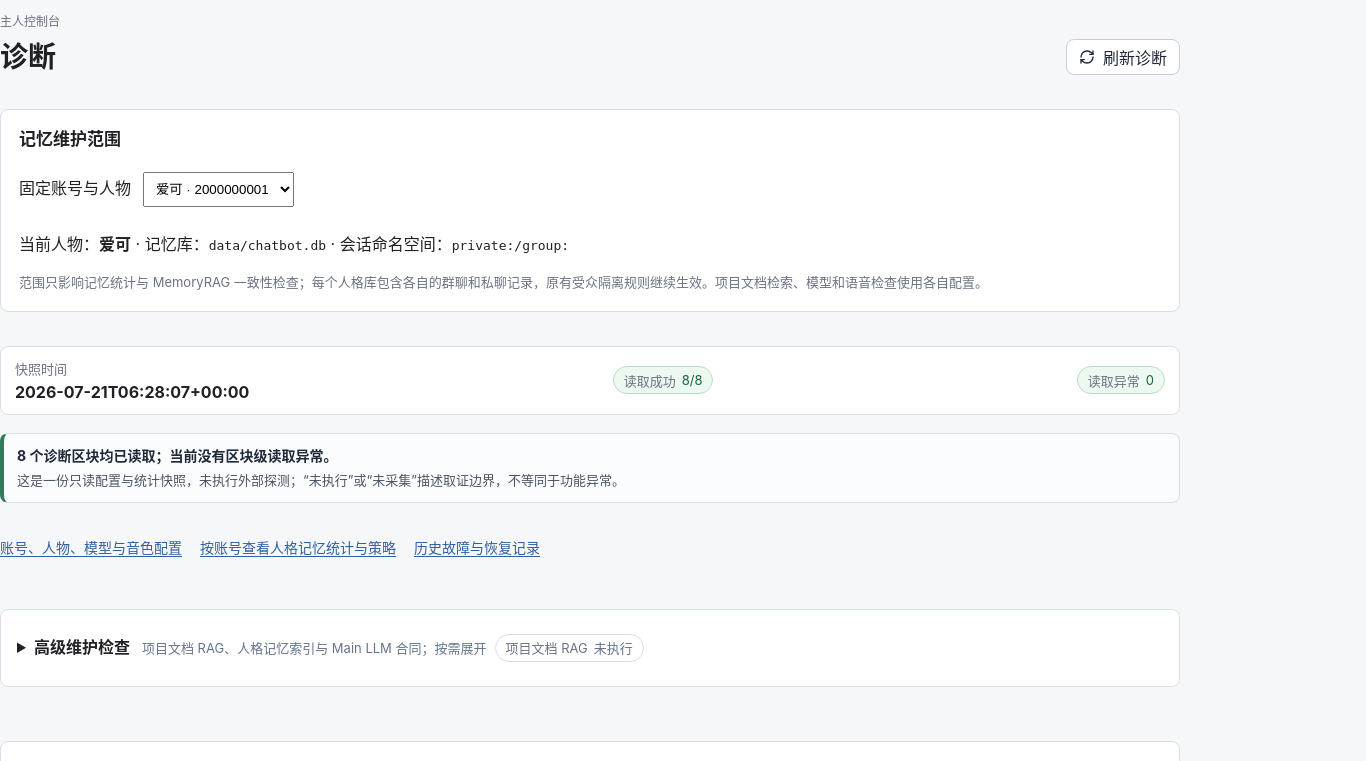
DiagnosticsPage › requires explicit confirmation for the one registered ProjectDocRAG action
Step 1. Click the heading that starts with "高级维护检查" → (339, 648), box [34, 634, 644, 662]
(page scrolled)
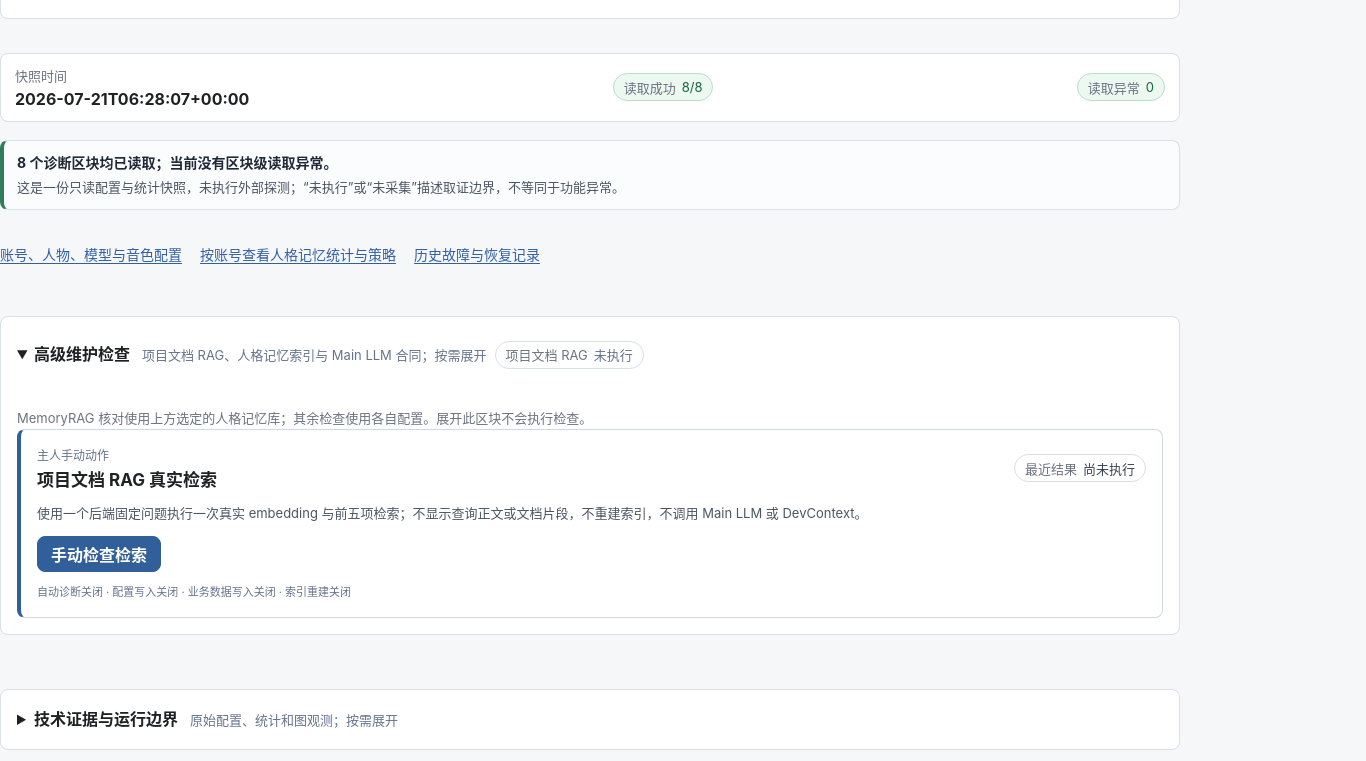
Step 2. Click the button "手动检查检索" → (99, 554), box [37, 536, 161, 572]
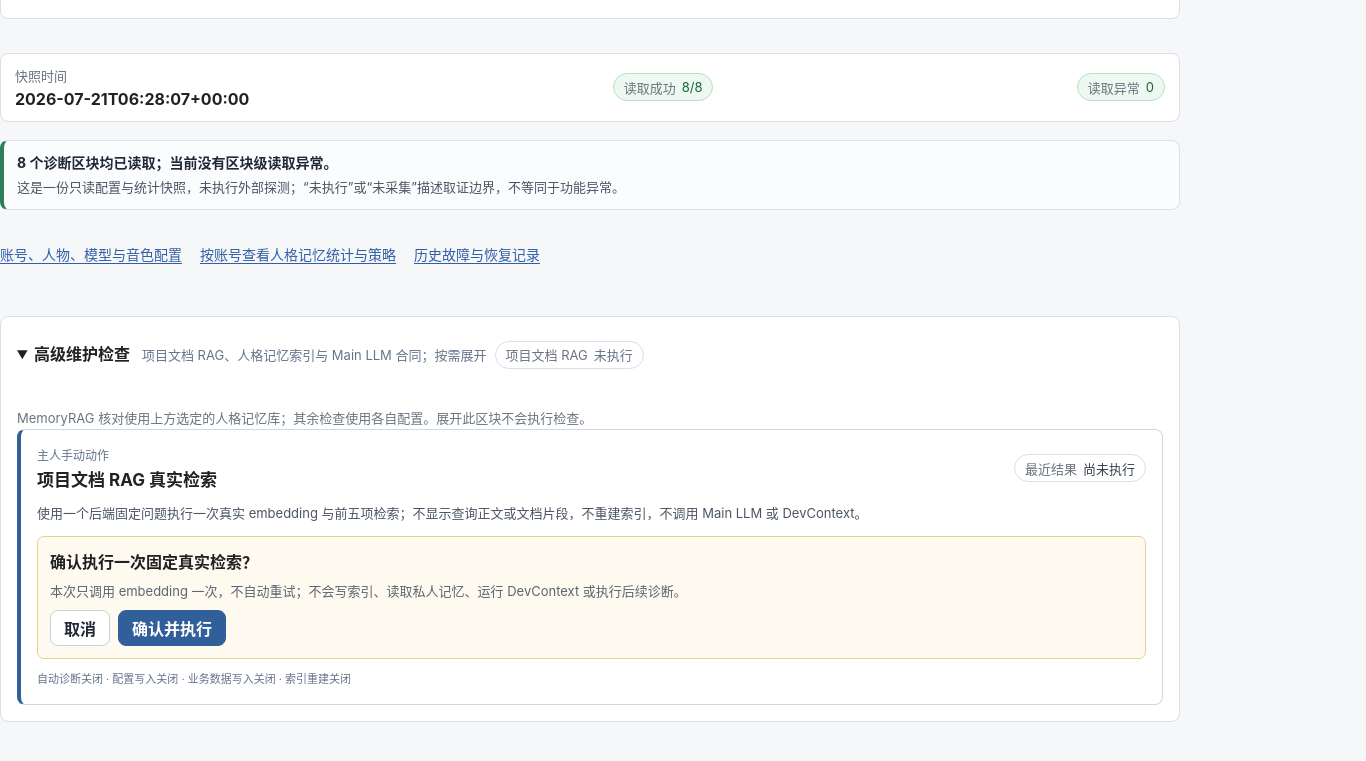
Expected: the text "确认执行一次固定真实检索？" is shown, [50, 552, 258, 572]
Step 3. Click the button "确认并执行" → (172, 628), box [118, 610, 226, 646]
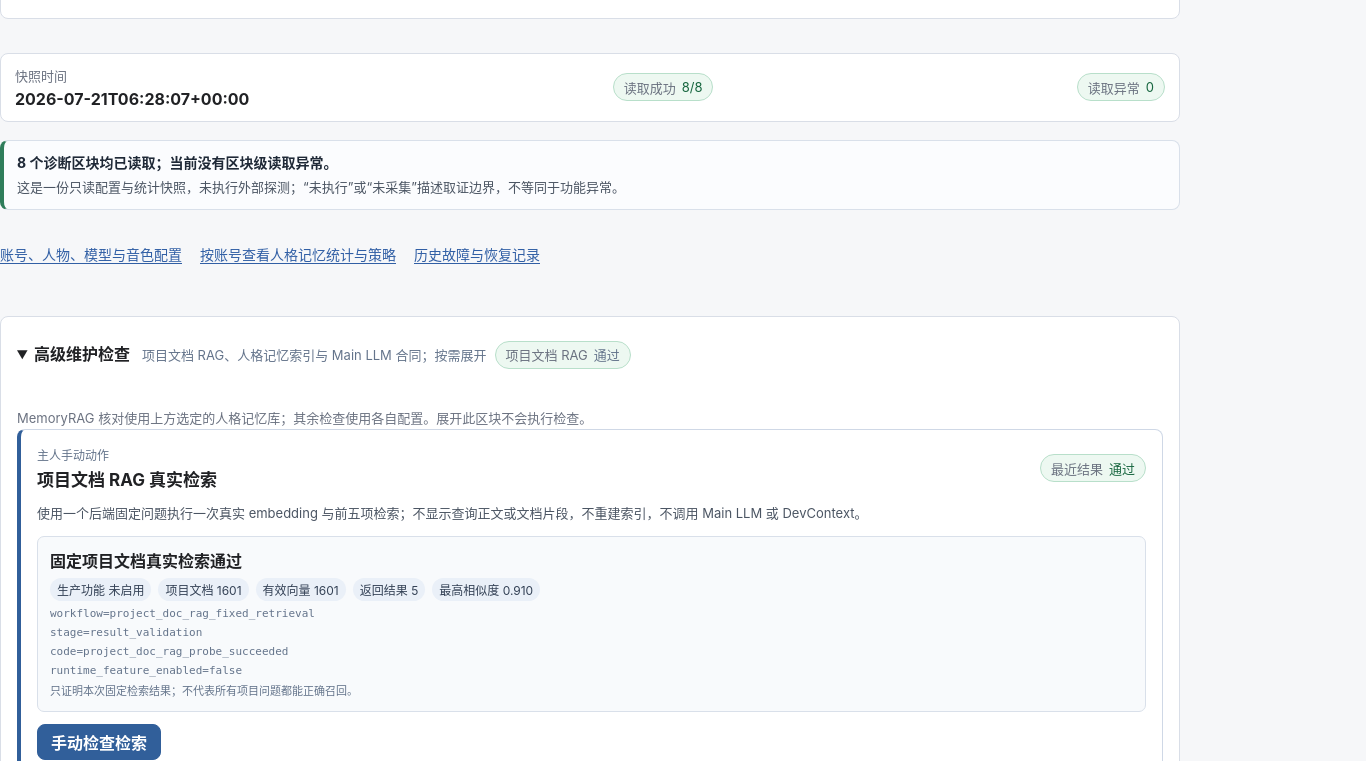
Expected: the text "固定项目文档真实检索通过" is shown, [50, 551, 242, 571]
Expected: the text "code=project_doc_rag_probe_succeeded" is shown, [50, 645, 288, 658]
Expected: the text "项目文档 1601" is shown, [158, 578, 249, 601]
